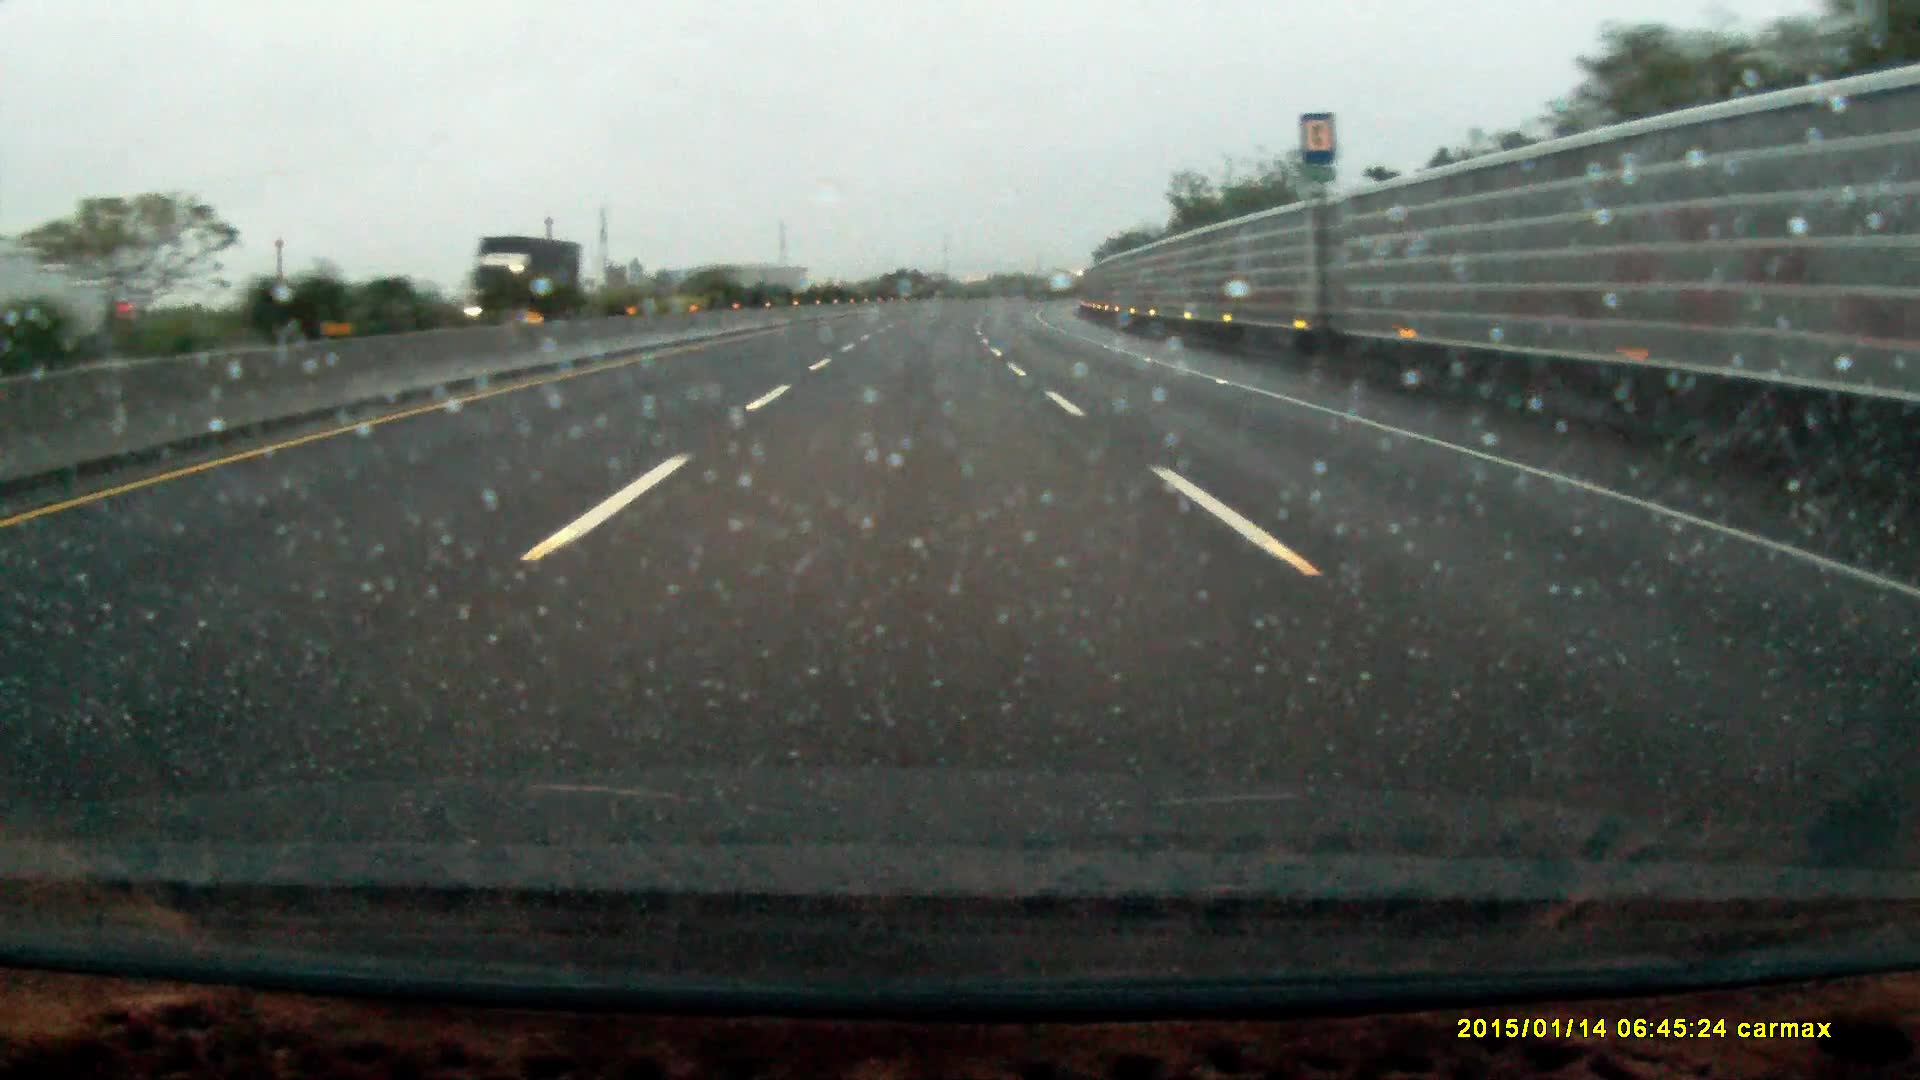vehicle: (469, 235, 584, 326)
